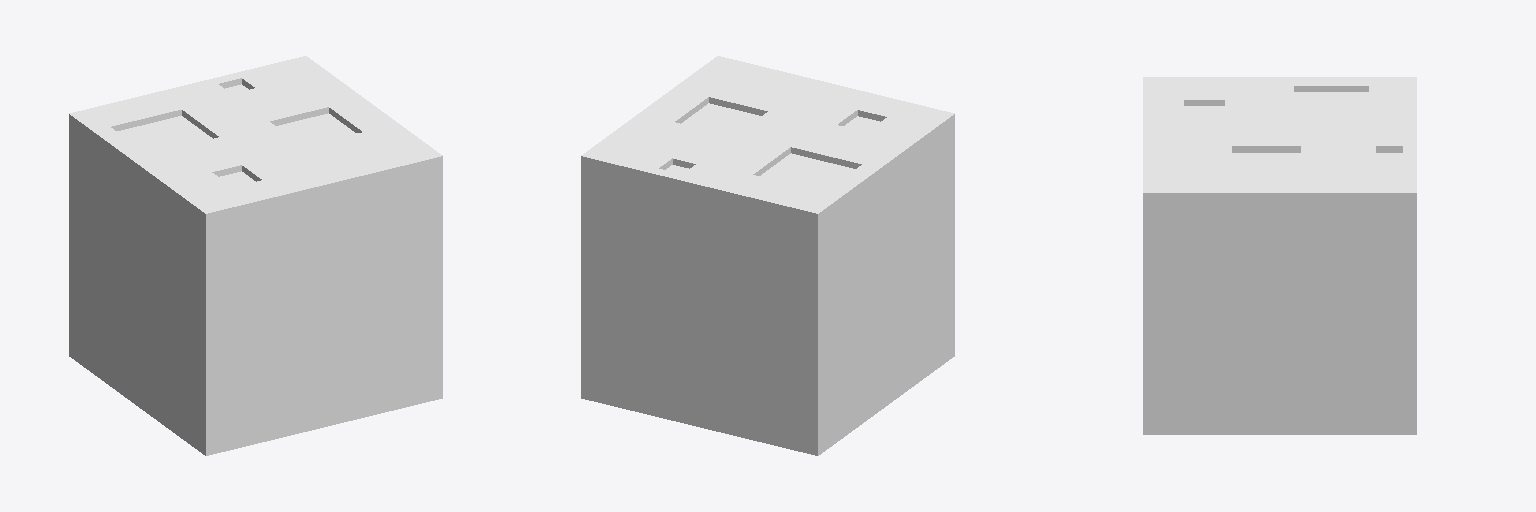
File: special_block.obj
3 renders of one model, left to right at view 1: azimuth 30°, elevation 25°; view 2: azimuth 150°, elevation 25°; view 3: azimuth 270°, elevation 25°, orthographic.
Parts seen in each view (by area): view 1: object 1; view 2: object 1; view 3: object 1.
Boxes of the visible parts, x1,y1,x2,y2 form: object 1: [69, 56, 442, 455]; object 1: [581, 56, 954, 455]; object 1: [1143, 77, 1416, 434].
Bounding box in the file's own units: 4 × 3.9 × 4.